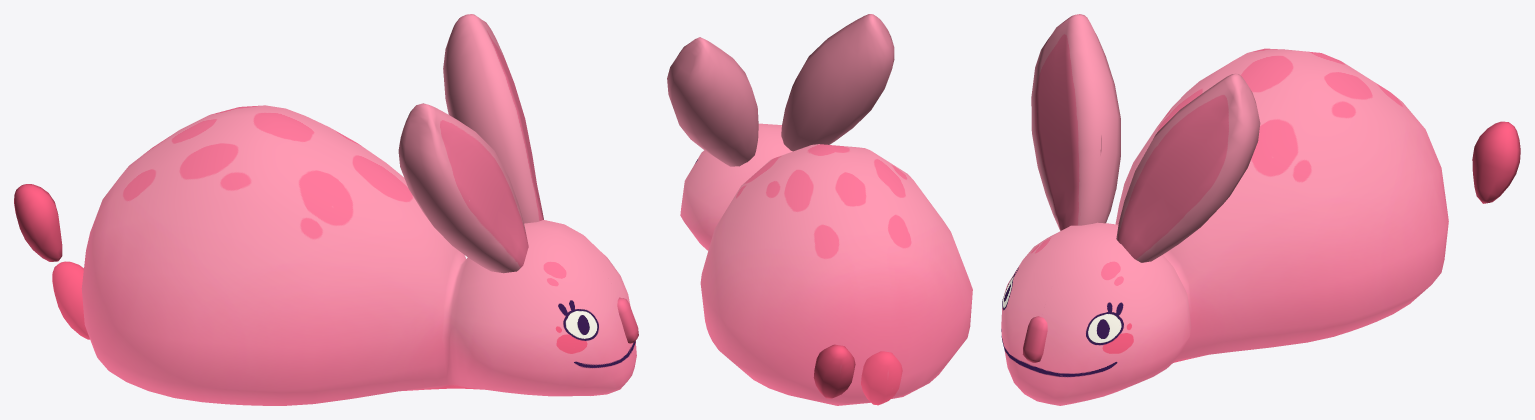
Rendered from bunny.glb.
The picture shows the model from 3 angles, left to right: view 1: azimuth 30°, elevation 25°; view 2: azimuth 150°, elevation 25°; view 3: azimuth 270°, elevation 25°; orthographic projection. The views are drawn at different scales.
Visible parts, largest first — view 1: bunny, Cube.008, Cube.007, Cube.009, Cylinder.006; view 2: bunny, Cube.008, Cube.007, Cube.009; view 3: bunny, Cube.008, Cube.007, Cylinder.006.
Part boxes in pixels (x1,y1,x2,y2): bunny: (81,105,636,405); Cube.008: (398,14,543,273); Cube.007: (14,184,62,261); Cube.009: (52,261,89,339); Cylinder.006: (617,297,638,343); bunny: (680,123,972,405); Cube.008: (667,14,894,166); Cube.007: (813,344,855,398); Cube.009: (861,351,902,405); bunny: (1001,48,1448,405); Cube.008: (1031,14,1260,262); Cube.007: (1472,121,1520,203); Cylinder.006: (1022,316,1047,362).
Bounding box in the file's own units: 0.3296 × 0.2448 × 0.3653.
2 materials, 2 textured.
